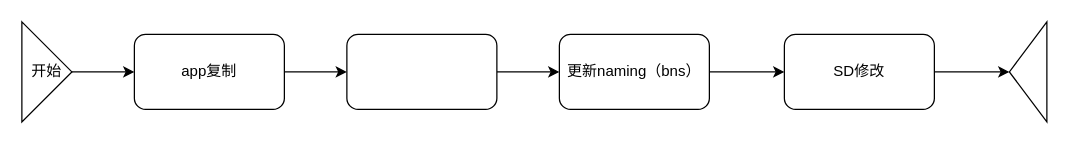
This 1069x144 diagram has some shape labels left out. The shapes that lost their labels are listed below. From the top down, each one's box as (x1, y1, x2, y2) in pixels, then its label:
(346, 33, 497, 109): 同步上线单
(1008, 21, 1047, 122): 结束
